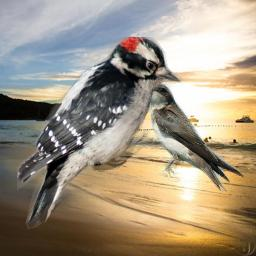Swallow: (145, 83, 245, 192)
Woodpecker: (17, 37, 187, 231)
